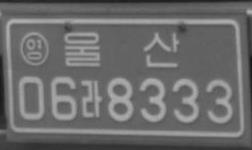0: (17, 75, 44, 121)
3: (171, 77, 199, 125), (205, 77, 233, 125), (138, 76, 166, 123)
6: (49, 75, 77, 121)
8: (106, 76, 133, 122)
라: (80, 79, 103, 118)
영: (20, 31, 49, 67)
울산_D: (63, 31, 180, 67)
